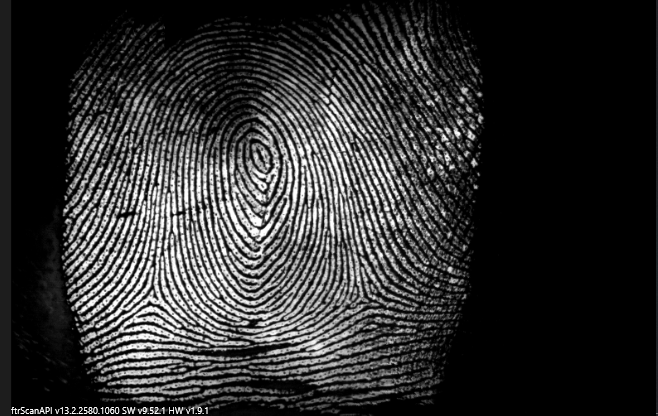nucelo: (242, 137, 281, 182)
verticilo: (133, 276, 168, 310), (343, 285, 379, 314)
